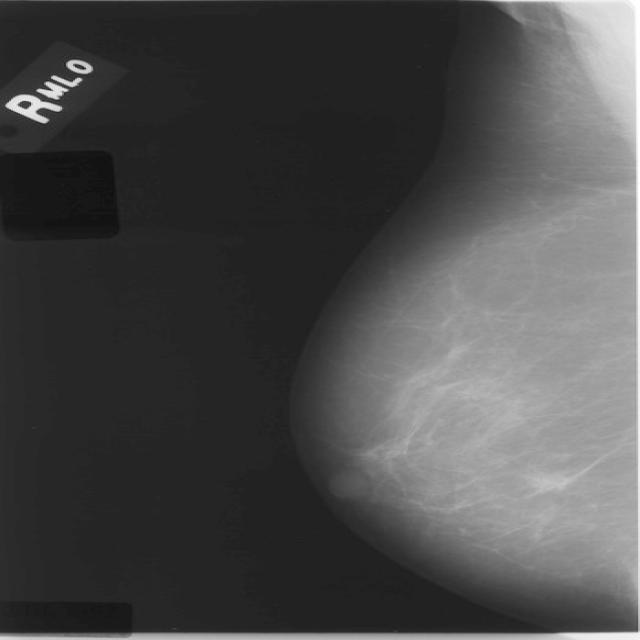tumour: (521, 468, 574, 494)
